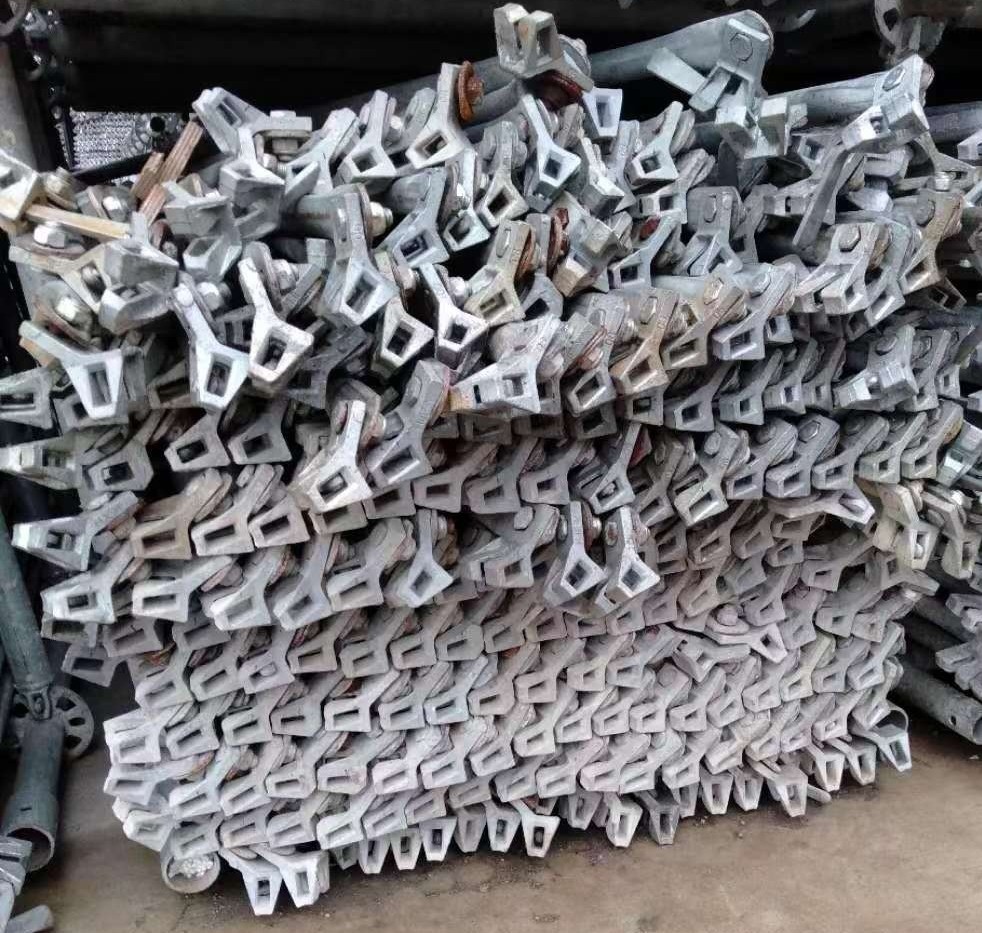circle_steel: (4, 821, 58, 872), (159, 859, 222, 893), (878, 704, 909, 734)
sigma_steel: (326, 261, 400, 326), (10, 516, 92, 571), (64, 355, 131, 419), (249, 323, 315, 386), (196, 85, 260, 147), (195, 344, 249, 413), (16, 437, 82, 493), (368, 436, 433, 489), (375, 316, 437, 371), (390, 557, 454, 610), (42, 583, 119, 626), (2, 373, 55, 431), (479, 365, 540, 415), (192, 511, 256, 558), (87, 448, 155, 492), (518, 14, 563, 80), (128, 516, 194, 561), (230, 422, 294, 468), (608, 552, 661, 606), (433, 308, 489, 359), (406, 120, 468, 166), (389, 221, 449, 267), (551, 552, 607, 601), (578, 88, 628, 140), (250, 505, 310, 548), (326, 571, 387, 613), (165, 433, 232, 471), (275, 584, 329, 631), (285, 359, 331, 414), (208, 590, 274, 628), (534, 147, 583, 198), (147, 361, 194, 414), (339, 141, 398, 183), (282, 856, 329, 908), (469, 284, 529, 324), (222, 162, 285, 200), (104, 724, 161, 766), (570, 370, 620, 417), (482, 550, 538, 591), (132, 585, 191, 623), (161, 719, 220, 757), (520, 463, 572, 506), (690, 238, 744, 279), (615, 355, 670, 395), (59, 650, 114, 690), (238, 866, 281, 917), (466, 475, 522, 514), (677, 485, 729, 527), (482, 183, 529, 227), (133, 674, 192, 709), (715, 321, 764, 363), (181, 233, 228, 276), (844, 108, 889, 152), (671, 390, 717, 433), (287, 639, 339, 677), (323, 696, 372, 736), (642, 184, 692, 223), (413, 476, 465, 513), (101, 768, 153, 805), (221, 709, 274, 745), (316, 762, 369, 798), (608, 252, 658, 290), (663, 331, 713, 369), (898, 251, 942, 294), (308, 507, 371, 537), (432, 628, 486, 663), (631, 145, 682, 182), (794, 131, 834, 178), (598, 807, 646, 846), (773, 771, 811, 820), (103, 628, 163, 659), (217, 778, 269, 813), (722, 386, 767, 426), (766, 462, 811, 502), (721, 99, 759, 146), (126, 813, 170, 853), (40, 621, 100, 650), (632, 491, 676, 530), (866, 282, 904, 327), (422, 817, 459, 863), (171, 784, 221, 818), (269, 814, 317, 849), (524, 815, 562, 859), (572, 407, 621, 441), (192, 666, 241, 700), (377, 698, 426, 732), (823, 277, 868, 314), (472, 742, 518, 778), (421, 755, 469, 789), (858, 448, 903, 484), (172, 624, 232, 651), (273, 707, 322, 740), (810, 458, 856, 493), (470, 683, 516, 717), (513, 671, 559, 705), (454, 810, 488, 856), (563, 793, 604, 831), (389, 638, 436, 671), (681, 641, 717, 684), (171, 829, 219, 861), (222, 816, 267, 850), (690, 530, 736, 563), (725, 467, 766, 504), (426, 690, 469, 725), (342, 646, 389, 678), (271, 765, 315, 799), (317, 818, 365, 849), (679, 582, 720, 618), (735, 525, 777, 560), (370, 763, 419, 793), (486, 809, 519, 853), (367, 491, 417, 520), (649, 801, 681, 846), (701, 776, 736, 817), (362, 807, 408, 838), (847, 741, 879, 785), (727, 562, 768, 596), (485, 621, 527, 654), (807, 557, 845, 593), (898, 448, 938, 482), (763, 306, 796, 347), (357, 837, 390, 878), (661, 756, 703, 788), (770, 377, 806, 414), (747, 628, 785, 663), (404, 795, 448, 825), (879, 731, 912, 771), (537, 766, 578, 798), (744, 593, 786, 624), (515, 416, 565, 442), (517, 724, 555, 758), (795, 274, 824, 318), (855, 697, 891, 732), (813, 753, 848, 789), (906, 375, 939, 413), (499, 769, 537, 802), (731, 226, 763, 265), (705, 741, 744, 773), (392, 832, 423, 872), (765, 540, 807, 569), (653, 527, 691, 559), (707, 695, 746, 726), (773, 515, 816, 543), (526, 615, 567, 644), (570, 661, 608, 692), (668, 700, 706, 731), (554, 714, 593, 744), (539, 376, 566, 419), (589, 706, 629, 735), (779, 670, 815, 702), (450, 780, 491, 808), (814, 662, 848, 695), (610, 658, 646, 689), (736, 774, 764, 813), (647, 596, 680, 629), (850, 657, 883, 690), (805, 378, 835, 414), (580, 766, 620, 793), (619, 766, 657, 794), (424, 415, 463, 442), (783, 618, 818, 648), (610, 606, 647, 634), (631, 705, 668, 733), (878, 550, 902, 593), (821, 607, 854, 637), (746, 681, 779, 711), (855, 613, 885, 644), (748, 733, 783, 759), (937, 365, 962, 401), (675, 785, 702, 817), (332, 847, 359, 870)
sigma_steel_blocked: (293, 458, 373, 514), (62, 241, 114, 315), (99, 284, 163, 326), (586, 468, 636, 513), (444, 209, 489, 256), (240, 657, 291, 697), (288, 153, 335, 196), (901, 522, 939, 572), (943, 531, 979, 583), (829, 487, 876, 526), (623, 390, 666, 428), (462, 417, 513, 448), (932, 158, 977, 190), (814, 711, 850, 740), (566, 613, 608, 637), (779, 723, 811, 754)
